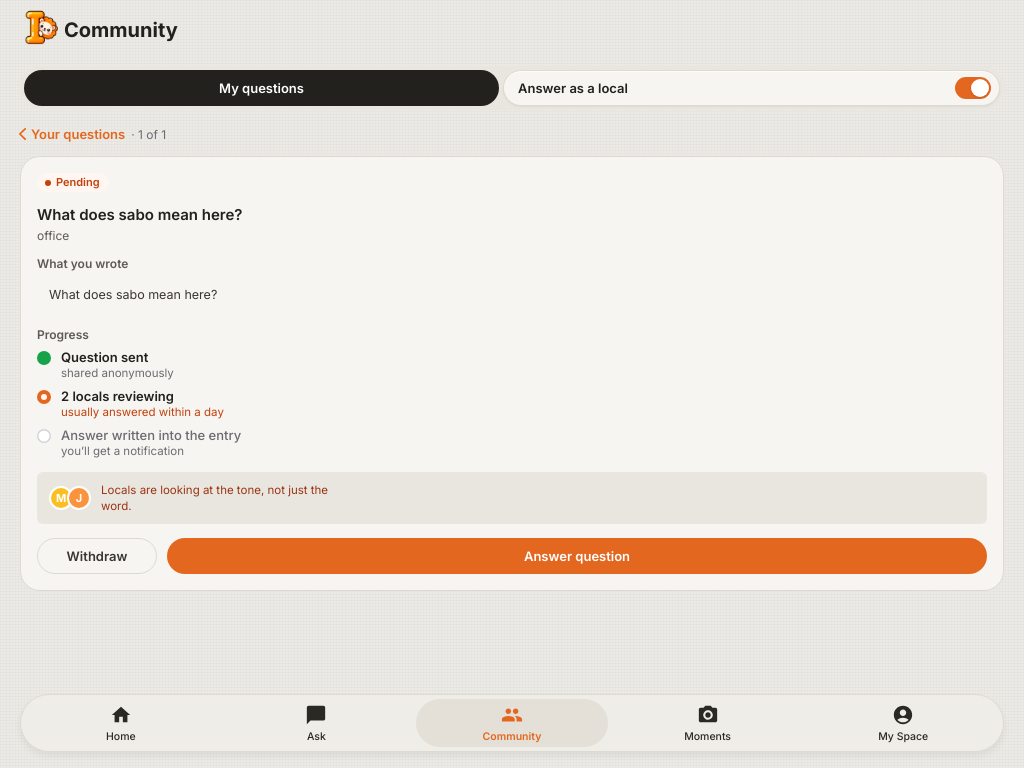
Scenario: an answer to a question I created finds the phrase entry by the phrase, not the id
The image size is (1024, 768).
Click the button "Answer question" at [577, 556], box [167, 538, 987, 574]
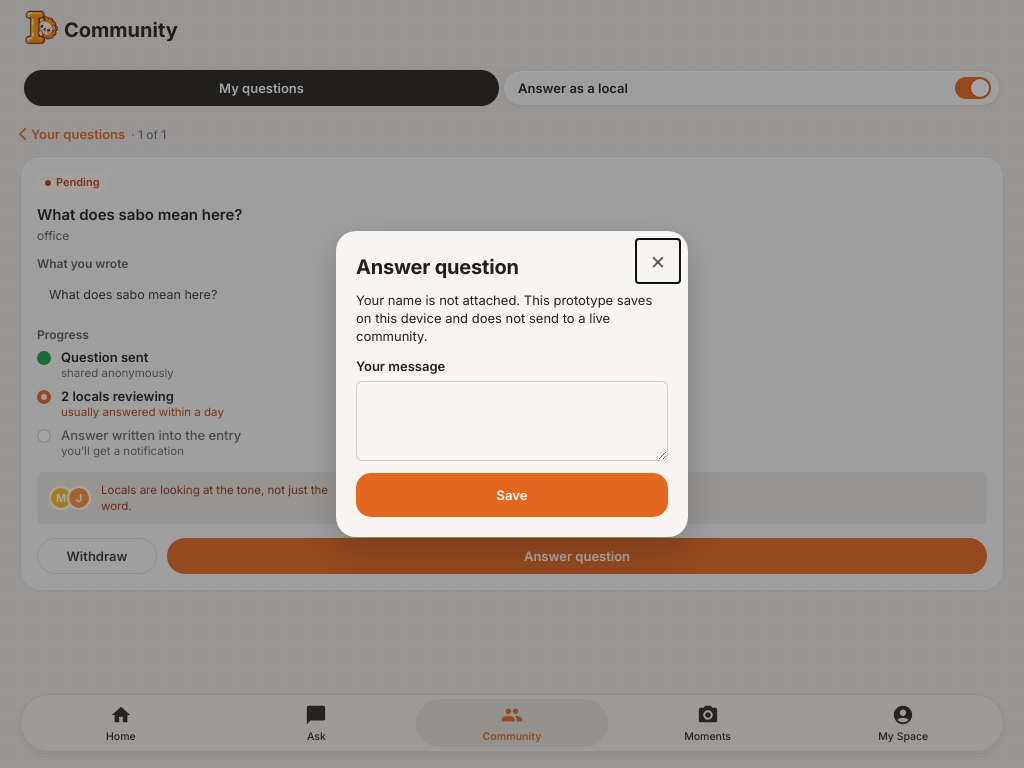
Type "Selling someone out." into the text box labelled "Your message" at [512, 421], box [356, 381, 668, 461]
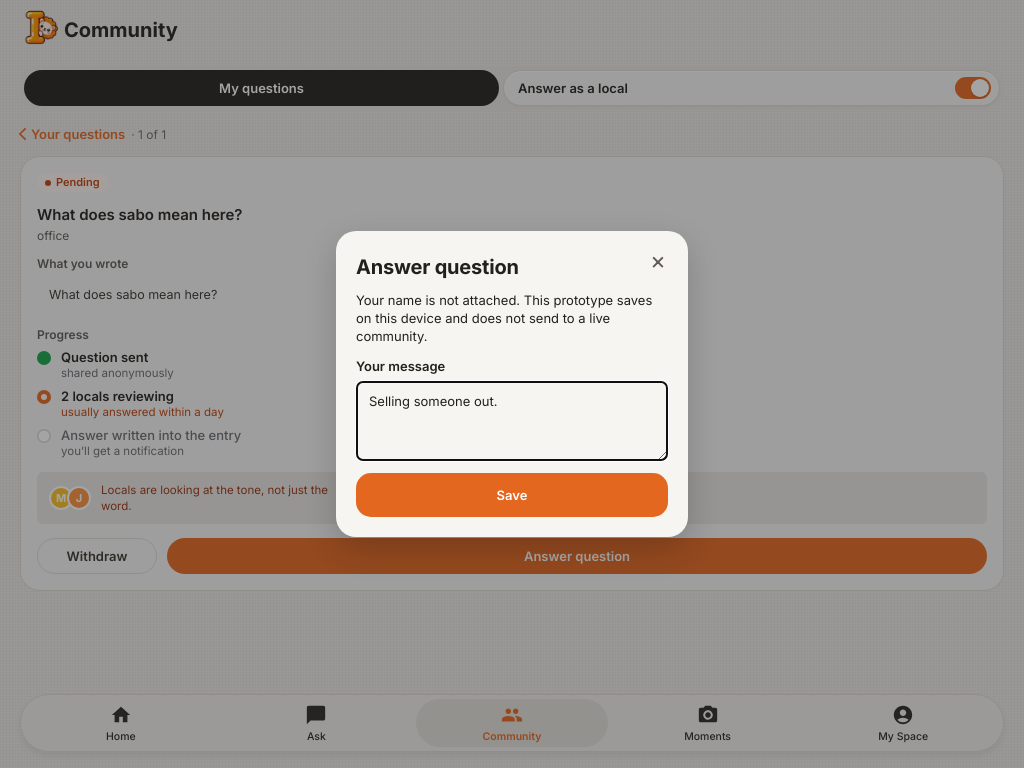
Click the button "Save" at [512, 495], box [356, 473, 668, 517]
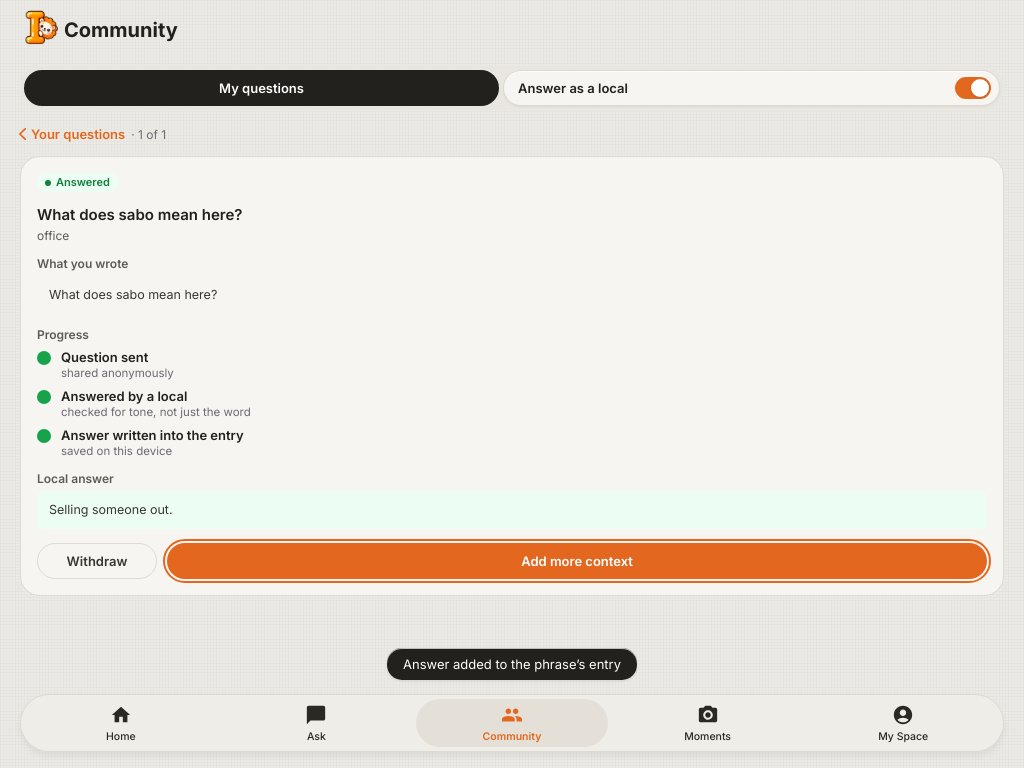
Expected: the text "Selling someone out." is shown, [37, 491, 987, 529]
